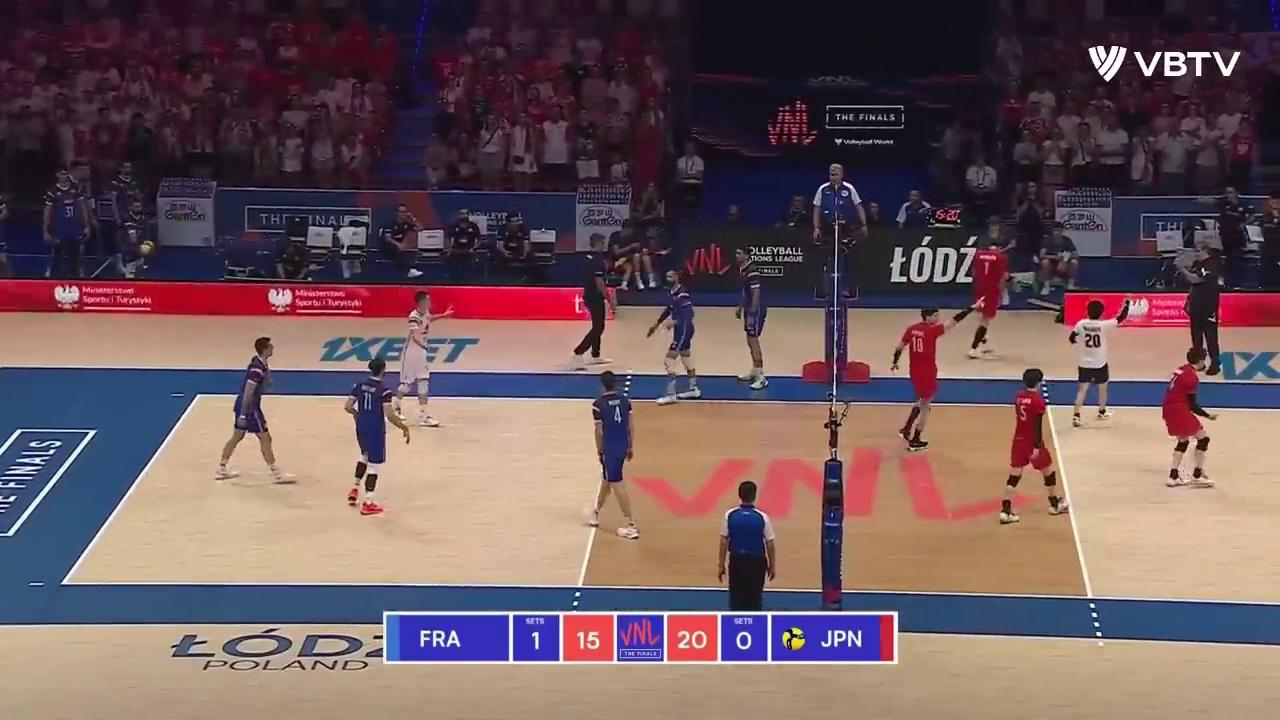ball: (136, 240, 156, 255)
